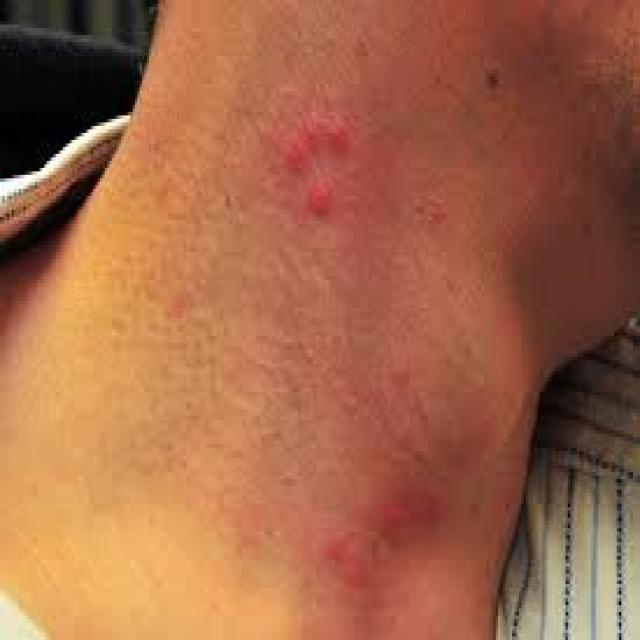kan emici bocekler: (279, 95, 358, 230)
